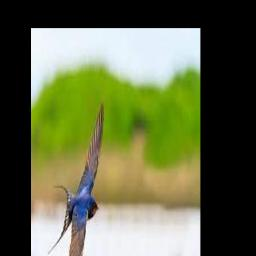Swallow: (48, 99, 103, 256)
